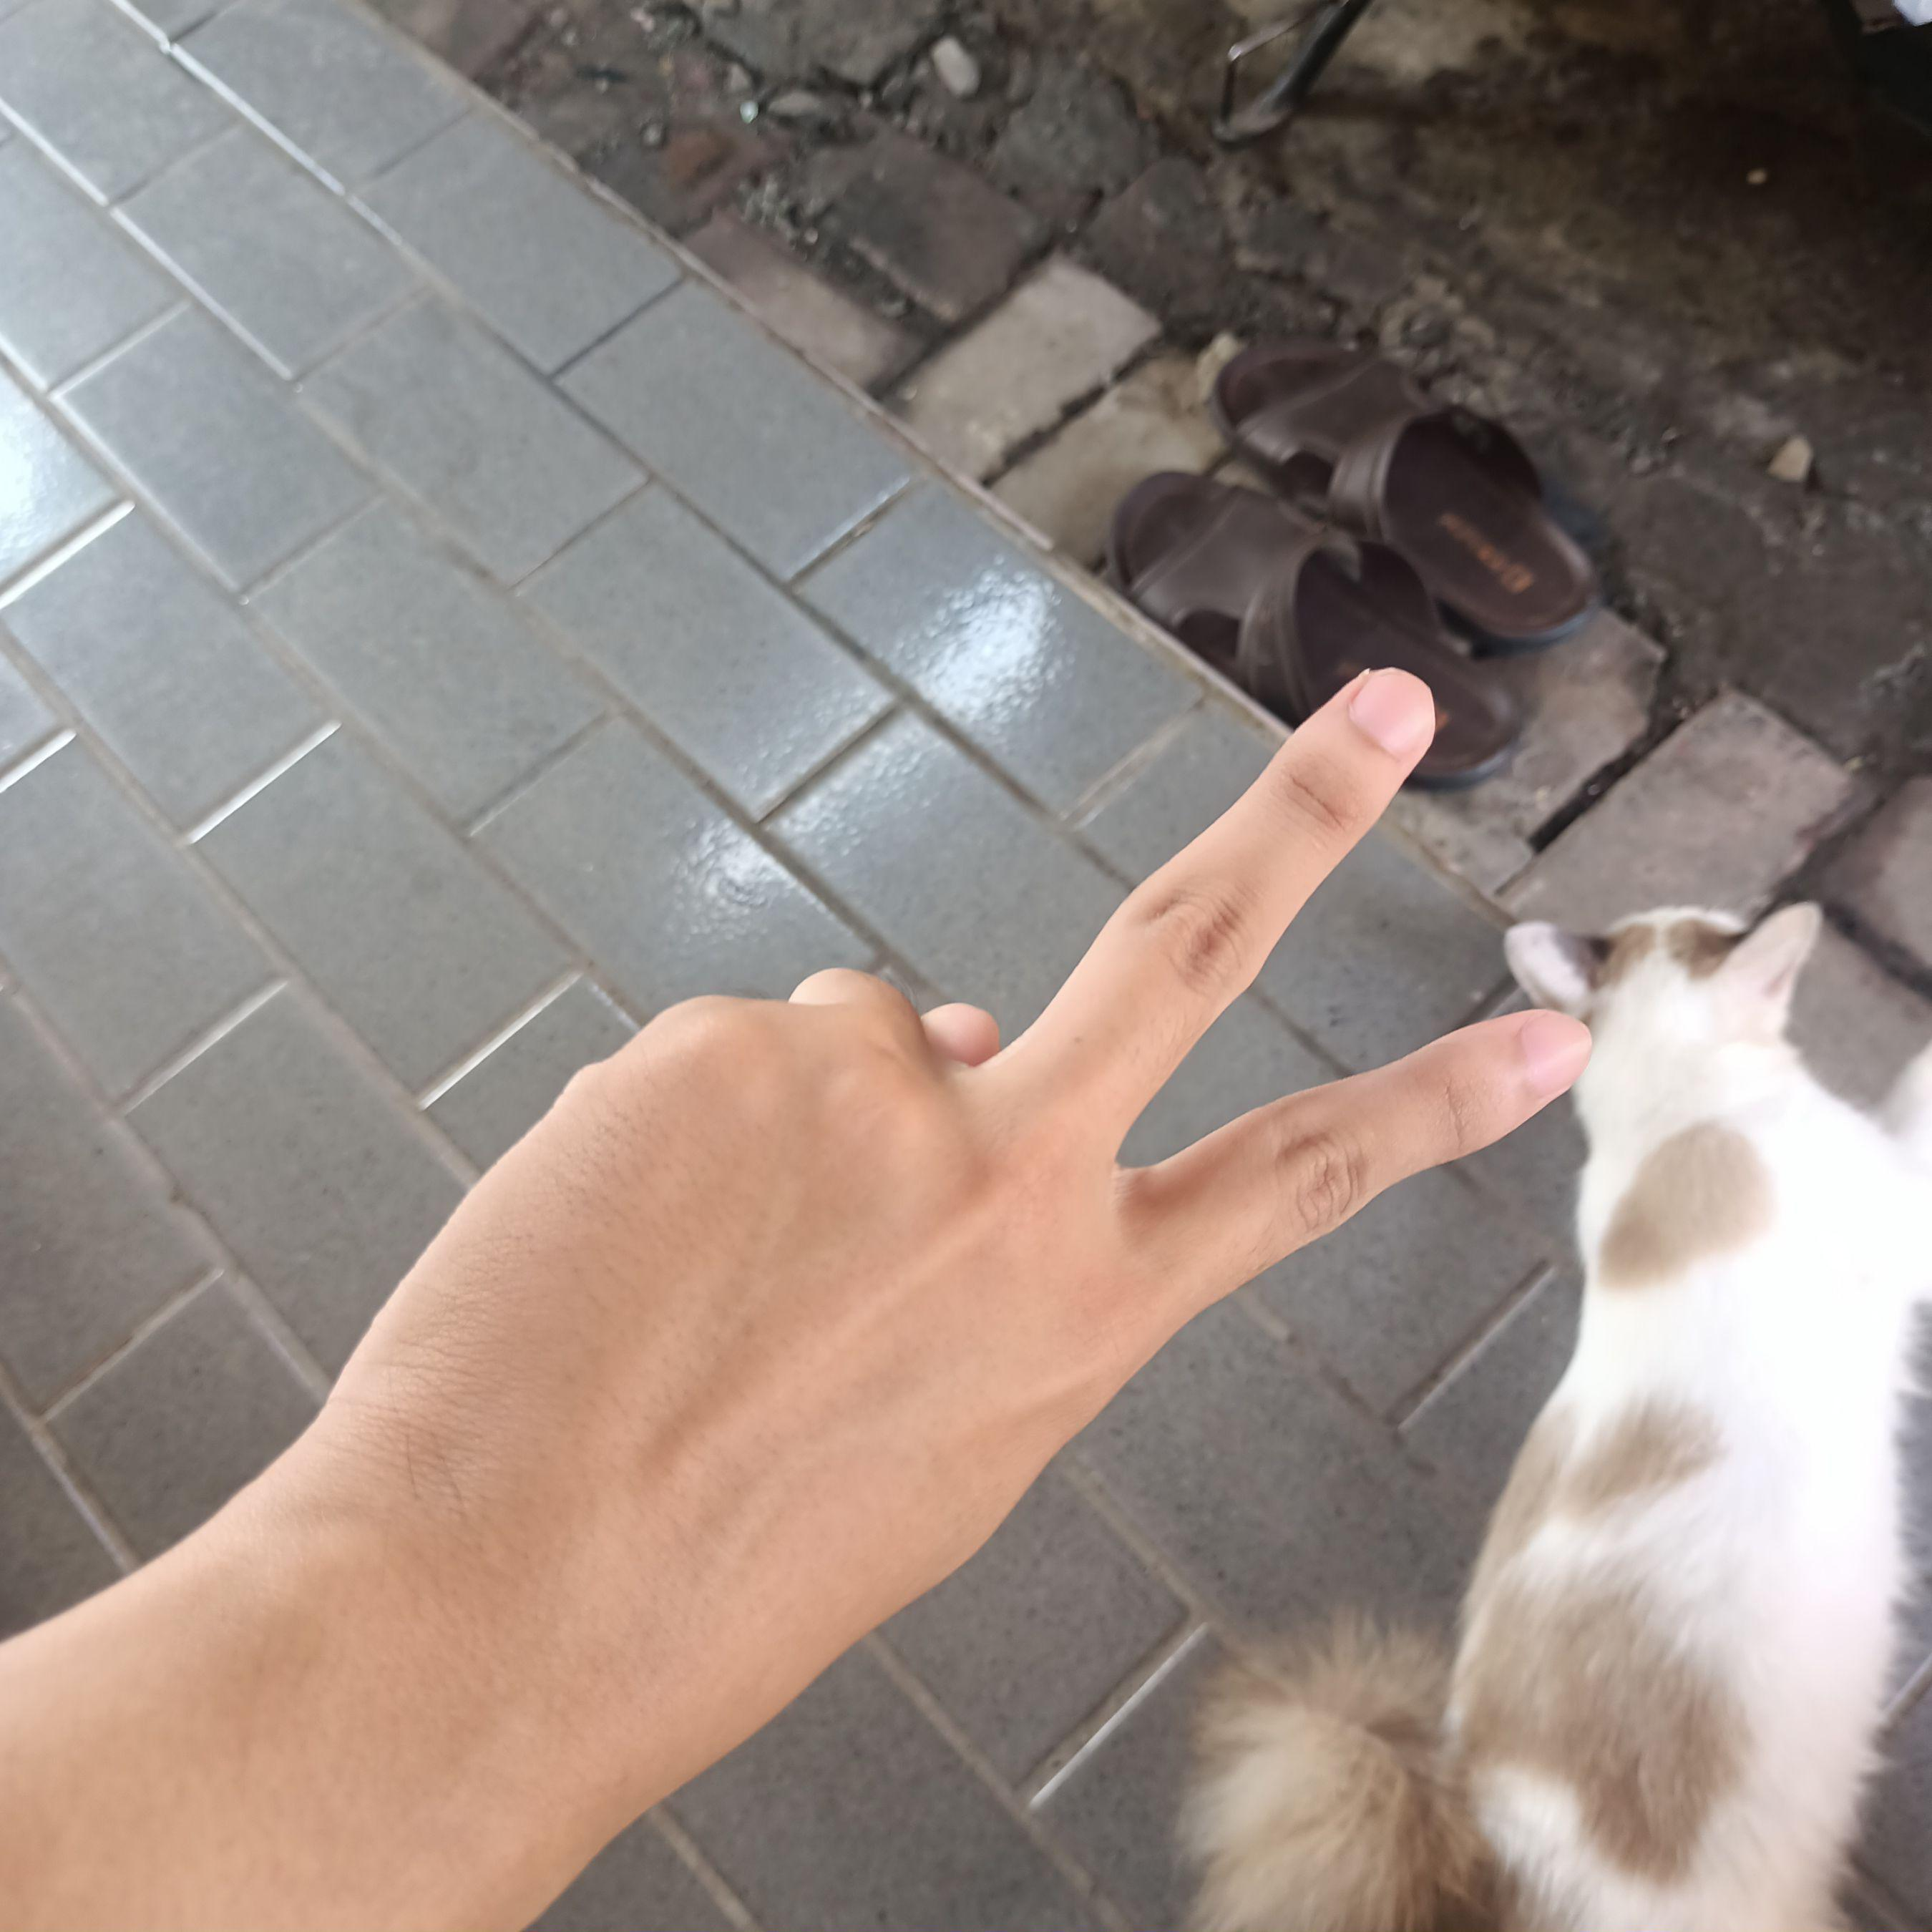scissors: (230, 672, 1608, 1851)
